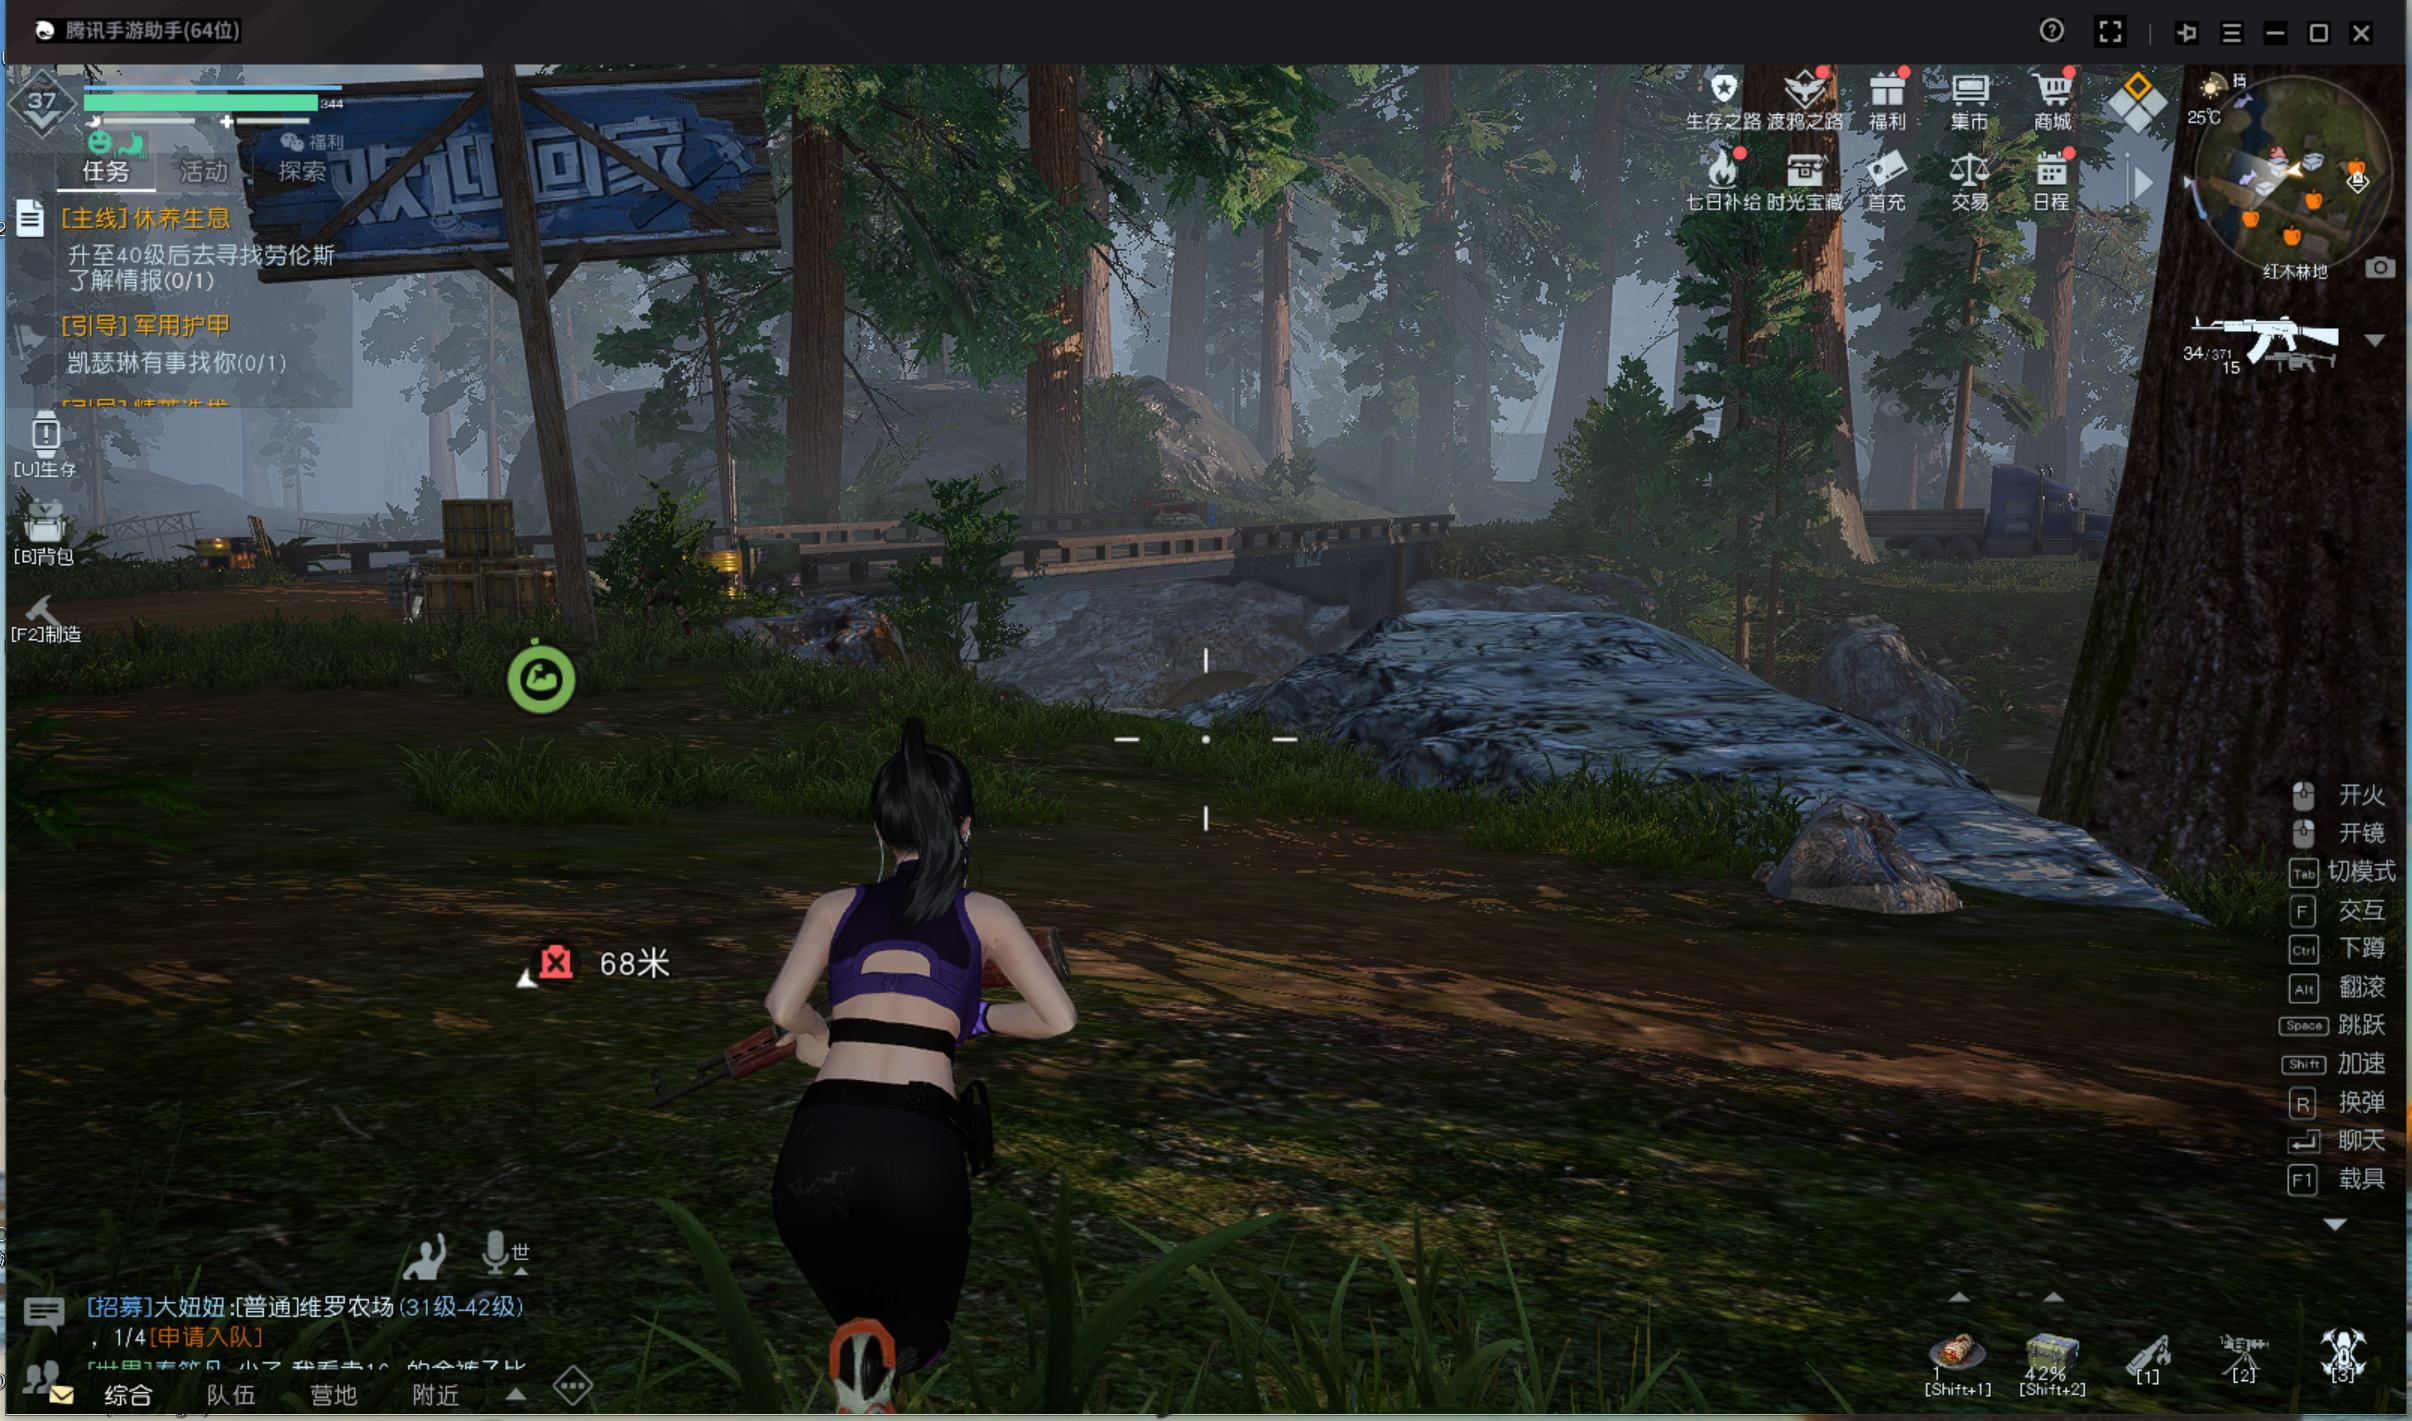stone: (1734, 765, 1949, 963), (1795, 587, 1976, 751)
tree: (1690, 115, 1867, 579), (778, 135, 856, 535), (1015, 230, 1086, 541), (1404, 188, 1461, 540), (1253, 189, 1297, 492)
